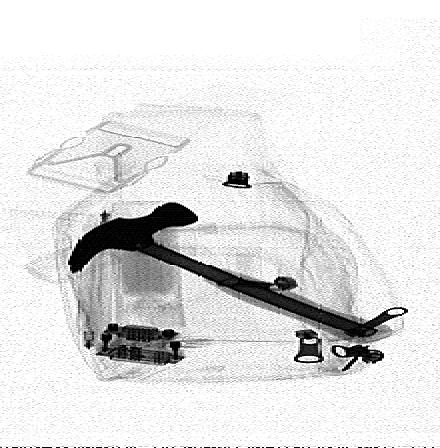Hammer: (67, 201, 393, 345)
